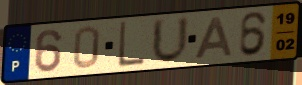0: (71, 25, 102, 72)
6: (32, 28, 64, 74), (238, 10, 268, 58)
A: (193, 15, 235, 61)
L: (116, 20, 146, 70)
U: (150, 14, 191, 66)
